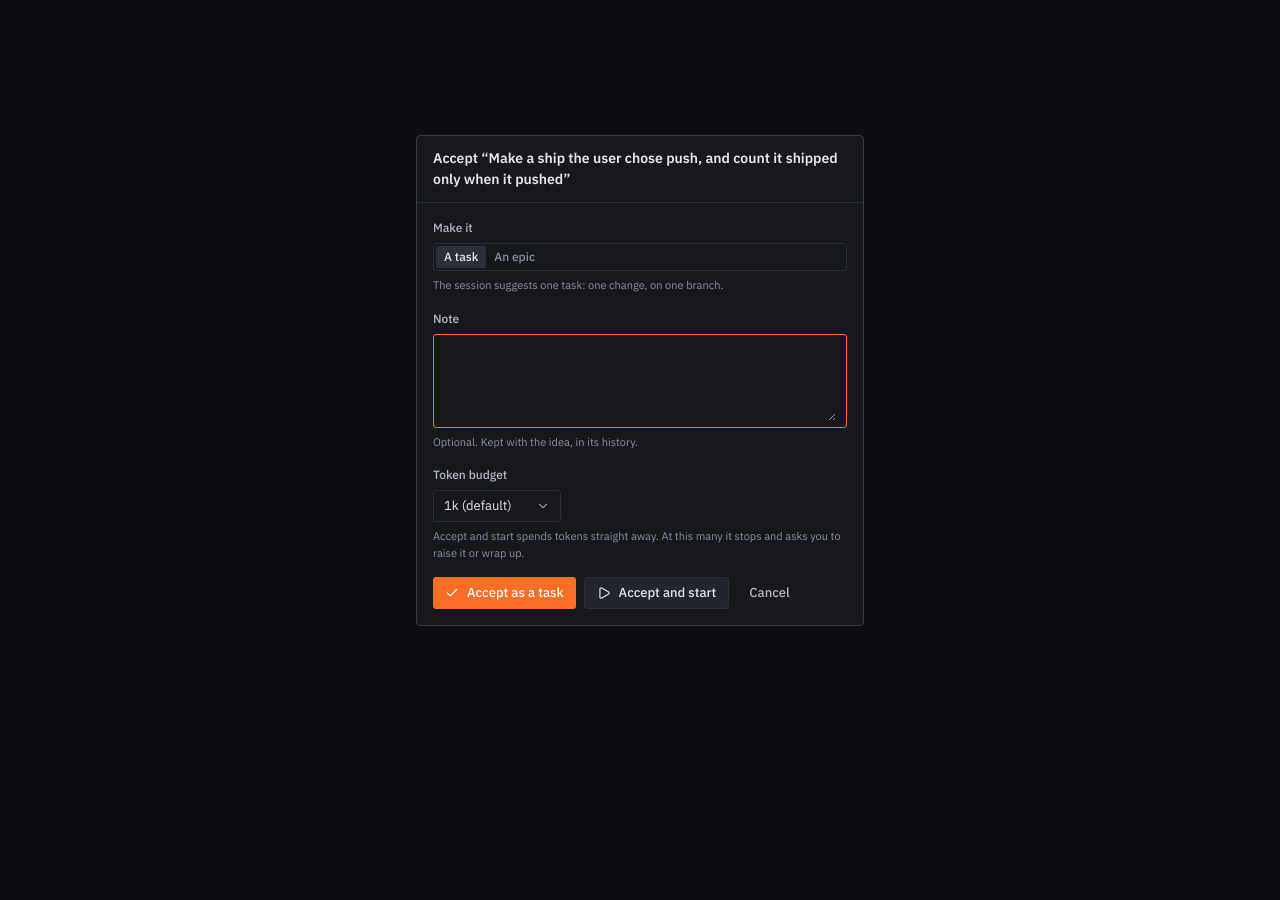
Test: AcceptIdeaDialog › any other refusal says why, as before
This screenshot has width=1280, height=900.
Click the button "Accept as a task".
click(504, 593)  # box [433,577,576,609]
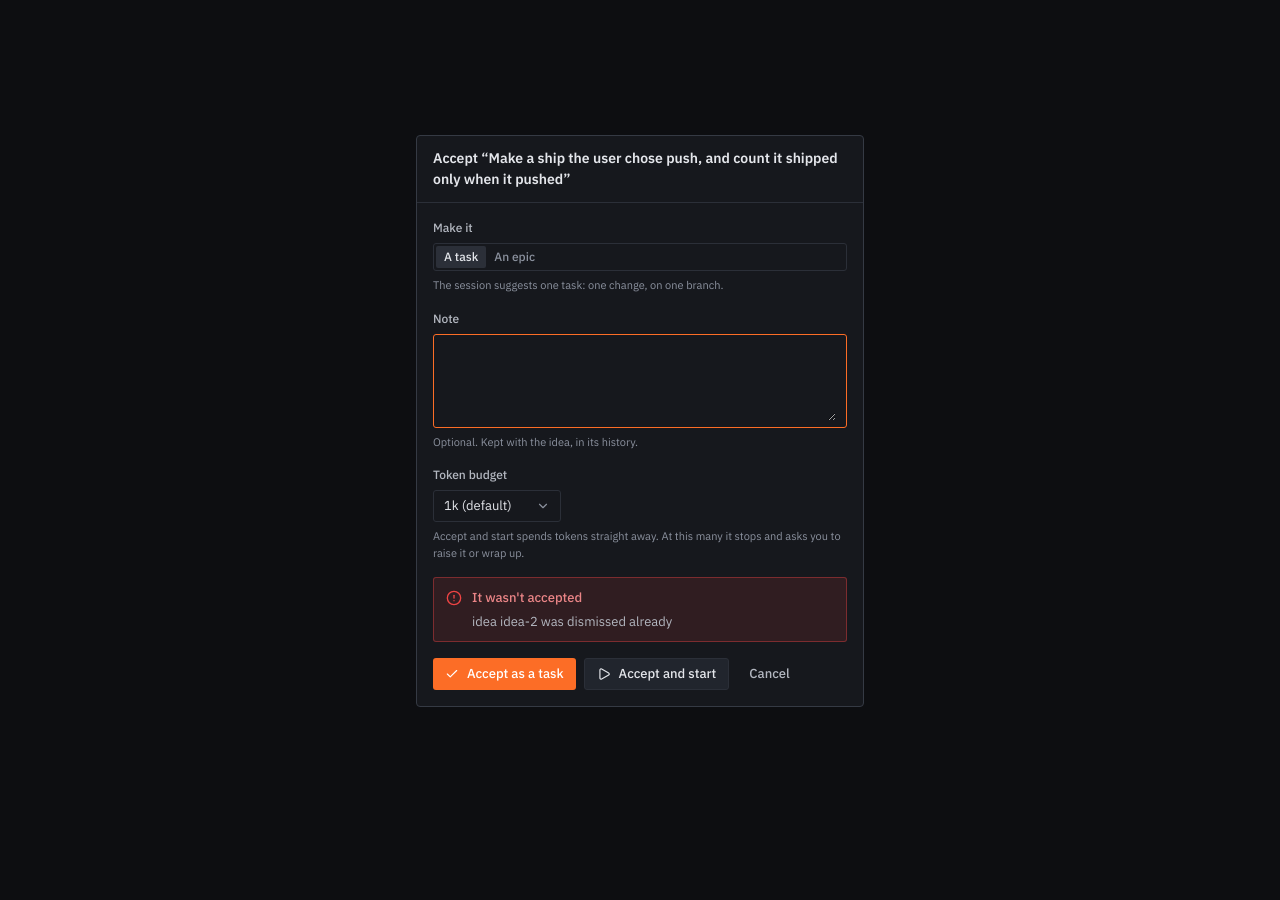
Check: the text "idea idea-2 was dismissed already" is shown, box [472,612,672,631]
